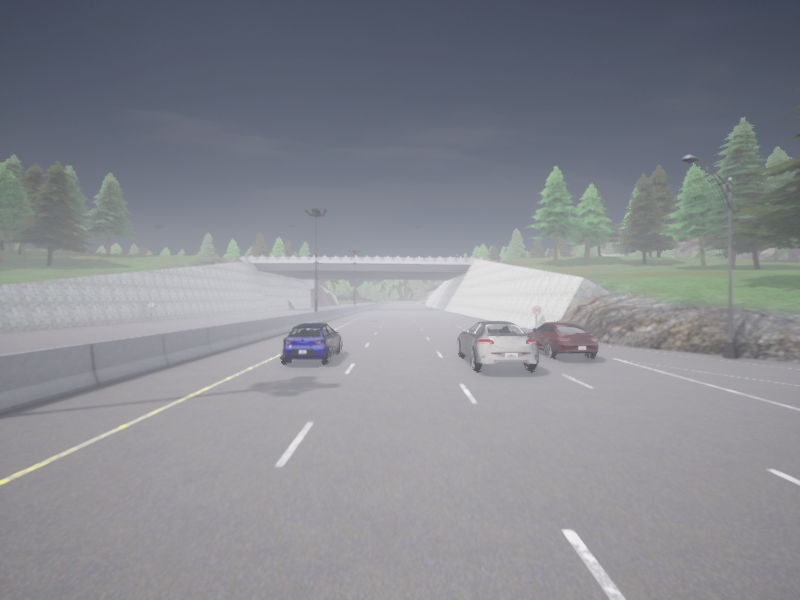vehicle: (457, 321, 538, 371), (527, 322, 598, 358), (282, 323, 341, 363)
